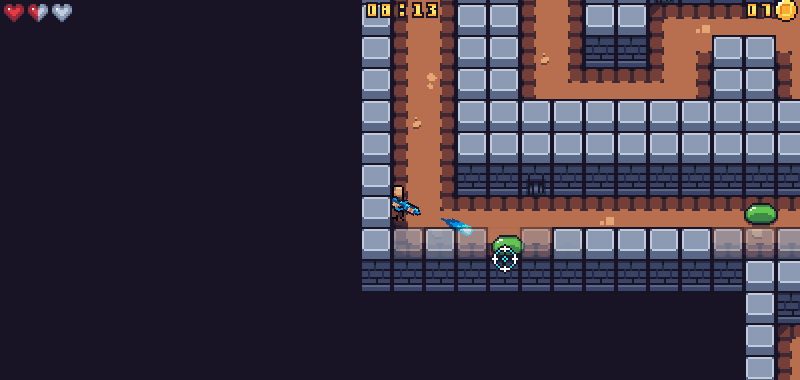enemy_slug: (742, 198, 780, 226), (489, 231, 527, 255)
